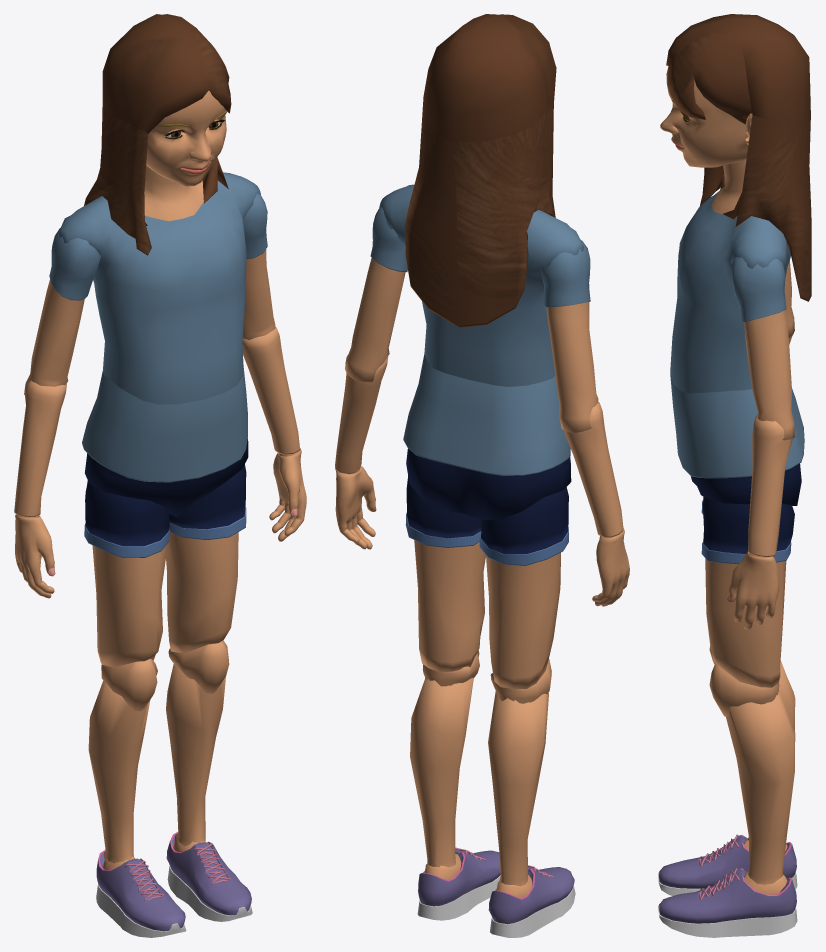
The model's file is fille.obj.
The picture shows the model from 3 angles, left to right: view 1: azimuth 30°, elevation 25°; view 2: azimuth 150°, elevation 25°; view 3: azimuth 270°, elevation 25°; orthographic projection.
Visible parts, largest first — view 1: sweethome3d_mannequin_chest_chest, sweethome3d_mannequin_head_head, sweethome3d_mannequin_pelvis_pelvis, sweethome3d_mannequin_right_thigh_rightThigh, sweethome3d_mannequin_left_thigh_leftThigh, sweethome3d_mannequin_right_leg_rightLeg, sweethome3d_mannequin_left_leg_leftLeg, sweethome3d_mannequin_right_arm_rightArm, sweethome3d_mannequin_right_foot_rightFoot, sweethome3d_mannequin_left_foot_leftFoot, sweethome3d_mannequin_right_forearm_rightForearm, sweethome3d_mannequin_left_forearm_left_forearm (+5 smaller); view 2: sweethome3d_mannequin_head_head, sweethome3d_mannequin_pelvis_pelvis, sweethome3d_mannequin_right_thigh_rightThigh, sweethome3d_mannequin_chest_chest, sweethome3d_mannequin_left_thigh_leftThigh, sweethome3d_mannequin_left_leg_leftLeg, sweethome3d_mannequin_right_leg_rightLeg, sweethome3d_mannequin_right_arm_rightArm, sweethome3d_mannequin_left_arm_left_arm, sweethome3d_mannequin_right_foot_rightFoot, sweethome3d_mannequin_left_foot_leftFoot, sweethome3d_mannequin_right_forearm_rightForearm (+5 smaller); view 3: sweethome3d_mannequin_head_head, sweethome3d_mannequin_chest_chest, sweethome3d_mannequin_left_thigh_leftThigh, sweethome3d_mannequin_pelvis_pelvis, sweethome3d_mannequin_left_leg_leftLeg, sweethome3d_mannequin_left_arm_left_arm, sweethome3d_mannequin_left_foot_leftFoot, sweethome3d_mannequin_left_forearm_left_forearm, sweethome3d_mannequin_right_foot_rightFoot, sweethome3d_mannequin_left_hand_left_hand, sweethome3d_mannequin_left_knee_leftKnee, sweethome3d_mannequin_right_leg_rightLeg (+1 smaller).
Part boxes in pixels (x1=…): sweethome3d_mannequin_chest_chest: x1=58, y1=165, x2=260, y2=404; sweethome3d_mannequin_head_head: x1=84, y1=14, x2=231, y2=255; sweethome3d_mannequin_pelvis_pelvis: x1=82, y1=365, x2=248, y2=517; sweethome3d_mannequin_right_thigh_rightThigh: x1=84, y1=480, x2=169, y2=667; sweethome3d_mannequin_left_thigh_leftThigh: x1=166, y1=464, x2=246, y2=653; sweethome3d_mannequin_right_leg_rightLeg: x1=88, y1=681, x2=150, y2=863; sweethome3d_mannequin_left_leg_leftLeg: x1=166, y1=664, x2=225, y2=846; sweethome3d_mannequin_right_arm_rightArm: x1=24, y1=228, x2=100, y2=394; sweethome3d_mannequin_right_foot_rightFoot: x1=96, y1=850, x2=186, y2=937; sweethome3d_mannequin_left_foot_leftFoot: x1=166, y1=831, x2=252, y2=921; sweethome3d_mannequin_right_forearm_rightForearm: x1=14, y1=380, x2=66, y2=517; sweethome3d_mannequin_left_forearm_left_forearm: x1=242, y1=326, x2=300, y2=454; sweethome3d_mannequin_head_head: x1=405, y1=14, x2=556, y2=327; sweethome3d_mannequin_pelvis_pelvis: x1=403, y1=354, x2=571, y2=520; sweethome3d_mannequin_right_thigh_rightThigh: x1=479, y1=487, x2=568, y2=689; sweethome3d_mannequin_chest_chest: x1=379, y1=184, x2=583, y2=386; sweethome3d_mannequin_left_thigh_leftThigh: x1=405, y1=476, x2=485, y2=672; sweethome3d_mannequin_left_leg_leftLeg: x1=410, y1=677, x2=473, y2=867; sweethome3d_mannequin_right_leg_rightLeg: x1=488, y1=691, x2=548, y2=886; sweethome3d_mannequin_right_arm_rightArm: x1=540, y1=240, x2=598, y2=433; sweethome3d_mannequin_left_arm_left_arm: x1=345, y1=207, x2=407, y2=382; sweethome3d_mannequin_right_foot_rightFoot: x1=488, y1=865, x2=575, y2=937; sweethome3d_mannequin_left_foot_leftFoot: x1=417, y1=847, x2=500, y2=920; sweethome3d_mannequin_right_forearm_rightForearm: x1=564, y1=402, x2=623, y2=537; sweethome3d_mannequin_head_head: x1=660, y1=14, x2=811, y2=301; sweethome3d_mannequin_chest_chest: x1=670, y1=159, x2=790, y2=393; sweethome3d_mannequin_left_thigh_leftThigh: x1=701, y1=498, x2=794, y2=687; sweethome3d_mannequin_pelvis_pelvis: x1=670, y1=374, x2=804, y2=505; sweethome3d_mannequin_left_leg_leftLeg: x1=726, y1=691, x2=795, y2=884; sweethome3d_mannequin_left_arm_left_arm: x1=731, y1=257, x2=794, y2=440; sweethome3d_mannequin_left_foot_leftFoot: x1=658, y1=868, x2=797, y2=937; sweethome3d_mannequin_left_forearm_left_forearm: x1=748, y1=415, x2=792, y2=556; sweethome3d_mannequin_right_foot_rightFoot: x1=658, y1=834, x2=797, y2=895; sweethome3d_mannequin_left_hand_left_hand: x1=727, y1=552, x2=779, y2=629; sweethome3d_mannequin_left_knee_leftKnee: x1=709, y1=663, x2=779, y2=716; sweethome3d_mannequin_right_leg_rightLeg: x1=747, y1=660, x2=795, y2=840.
Bounding box in the file's own units: 49.08 × 147 × 22.91.
